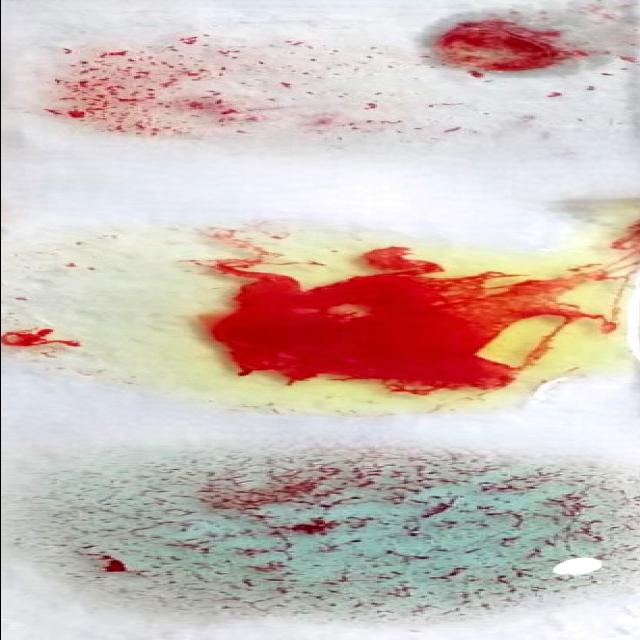A: (28, 456, 640, 618)
B: (0, 241, 632, 406)
D: (45, 33, 632, 152)
